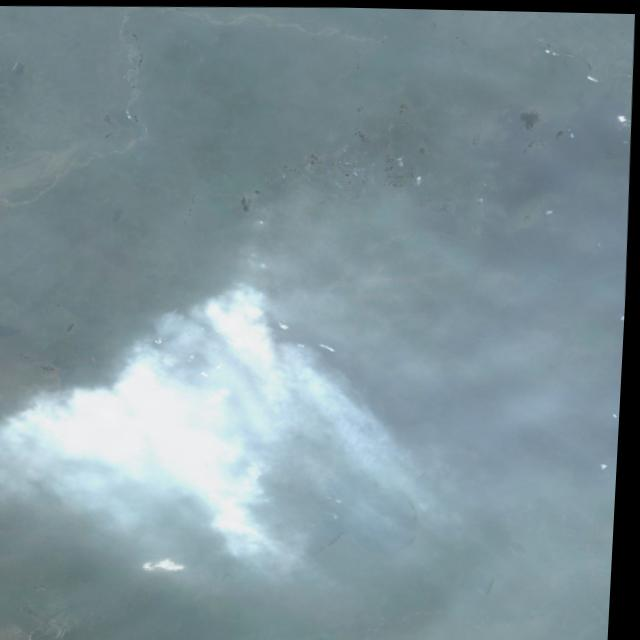fire: (84, 295, 312, 472)
